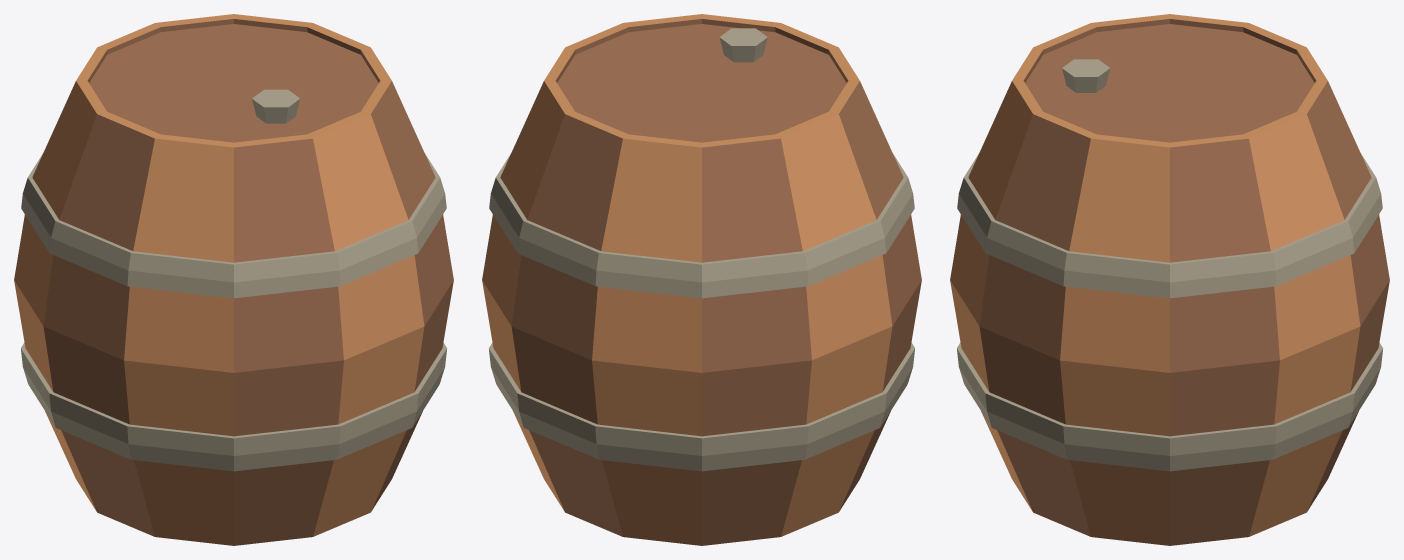
The model's file is Barrel_02.fbx.
3 renders of one model, left to right at view 1: azimuth 30°, elevation 25°; view 2: azimuth 150°, elevation 25°; view 3: azimuth 270°, elevation 25°, orthographic.
Visible parts, largest first — view 1: Barrel_02; view 2: Barrel_02; view 3: Barrel_02.
Boxes of the visible parts, <box> form: Barrel_02: <box>14,14,453,545</box>; Barrel_02: <box>482,14,921,545</box>; Barrel_02: <box>950,14,1389,545</box>.
Size of the model in its own units: 64.03 by 66.05 by 64.03.
